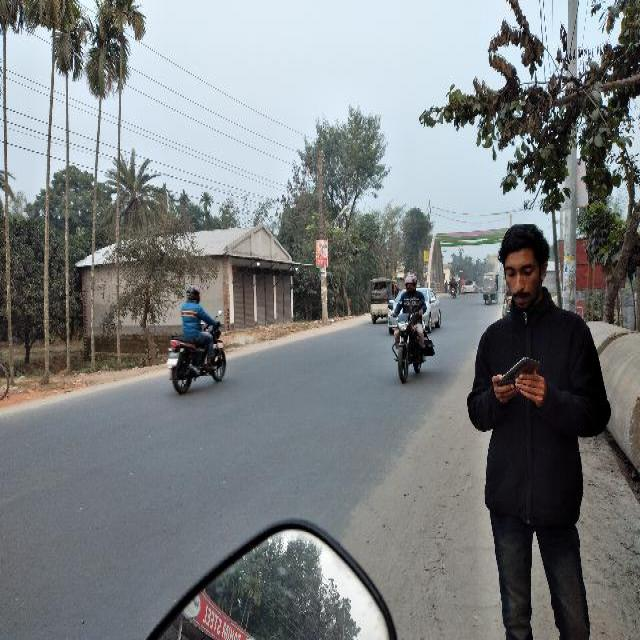bike: (165, 284, 236, 396), (395, 276, 436, 388), (449, 277, 459, 298)
vehicle: (387, 287, 443, 334), (369, 276, 396, 323), (483, 272, 499, 306), (463, 281, 479, 294)
